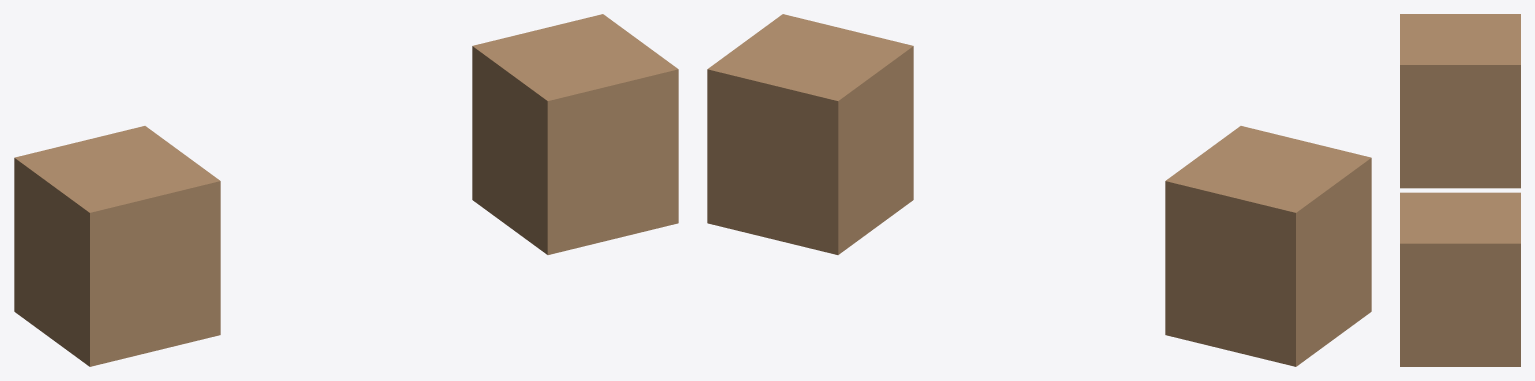
Rendered from 1191-Buildings-shell-pieces-roof-terrace-emitTerrace-20-triangles-1-80-x-0-45-x-0-40-.glb.
3 renders of one model, left to right at view 1: azimuth 30°, elevation 25°; view 2: azimuth 150°, elevation 25°; view 3: azimuth 270°, elevation 25°, orthographic. The views are drawn at different scales.
Parts seen in each view (by area): view 1: emitTerrace; view 2: emitTerrace; view 3: emitTerrace.
Part boxes in pixels (x1,y1,x2,y2): emitTerrace: [14, 14, 678, 366]; emitTerrace: [707, 14, 1371, 366]; emitTerrace: [1400, 14, 1520, 366].
Size of the model in its own units: 1.8 by 0.45 by 0.4.
